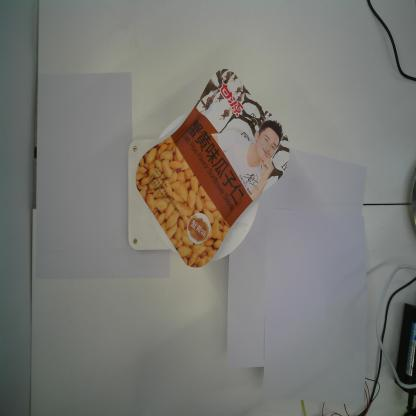Dried Fruit: (134, 67, 291, 269)
